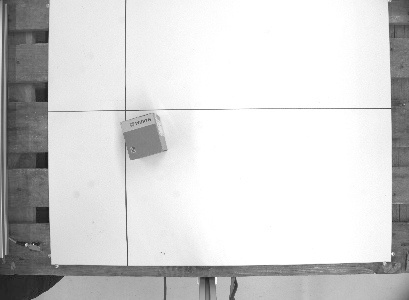b7: (117, 110, 171, 162)
